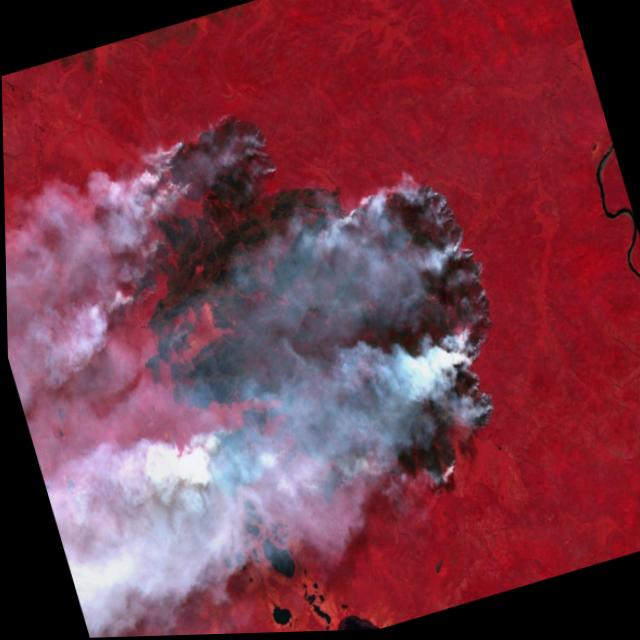fire: (77, 40, 543, 563)
